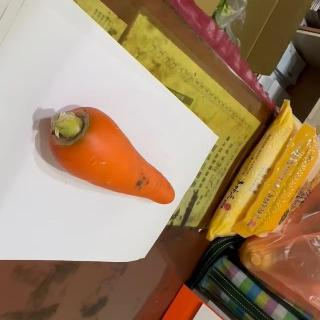carrot: (48, 105, 176, 204)
